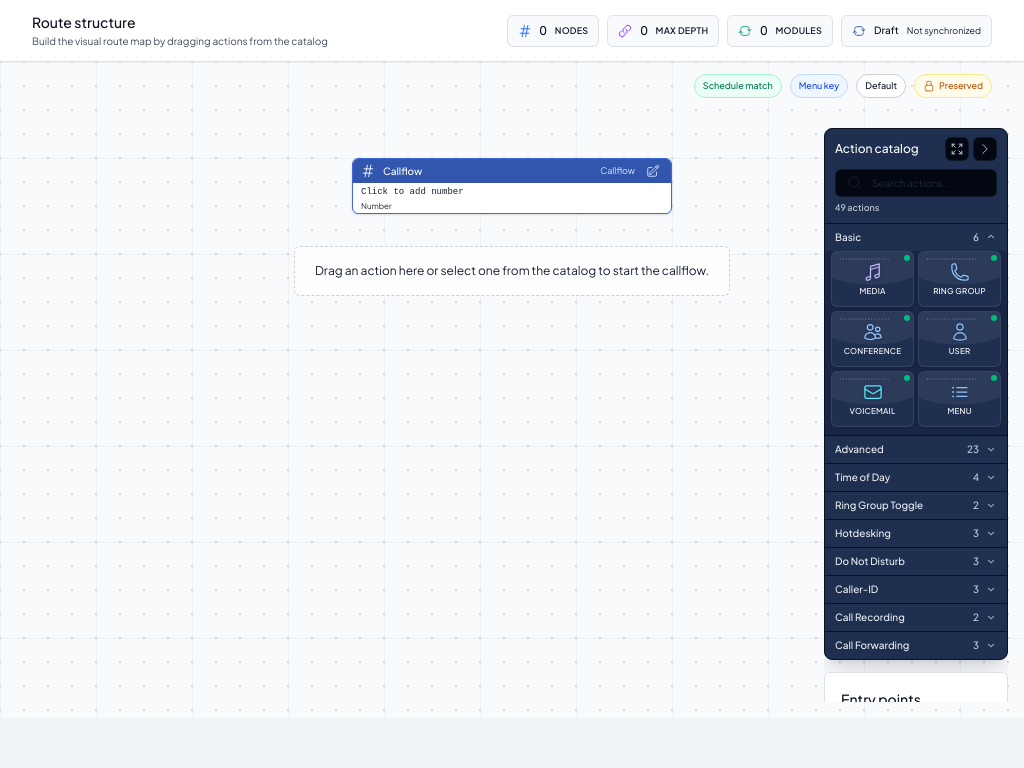
Test: CallflowCreateWorkspace › adds and removes a compact root action before the callflow is saved
In the search field with placeholder "Search actions…": (916, 183) x1=835 y1=169 x2=997 y2=197, type "user"
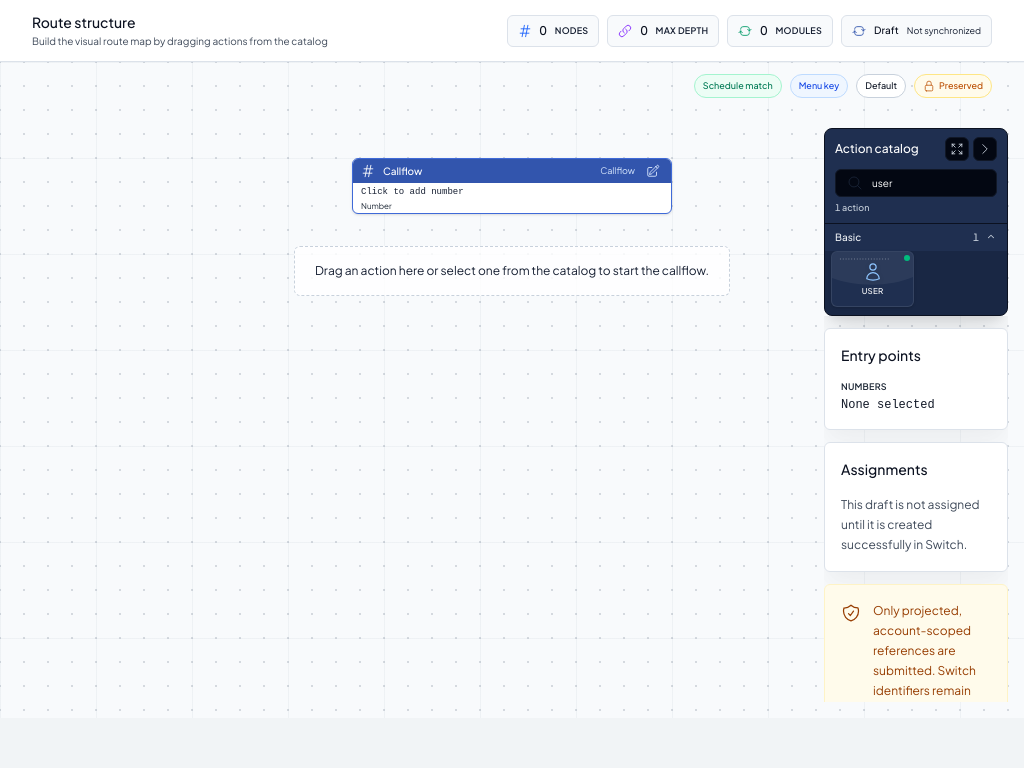
Click the button with aria-label "Use User as root action": (872, 278) x1=831 y1=250 x2=914 y2=306
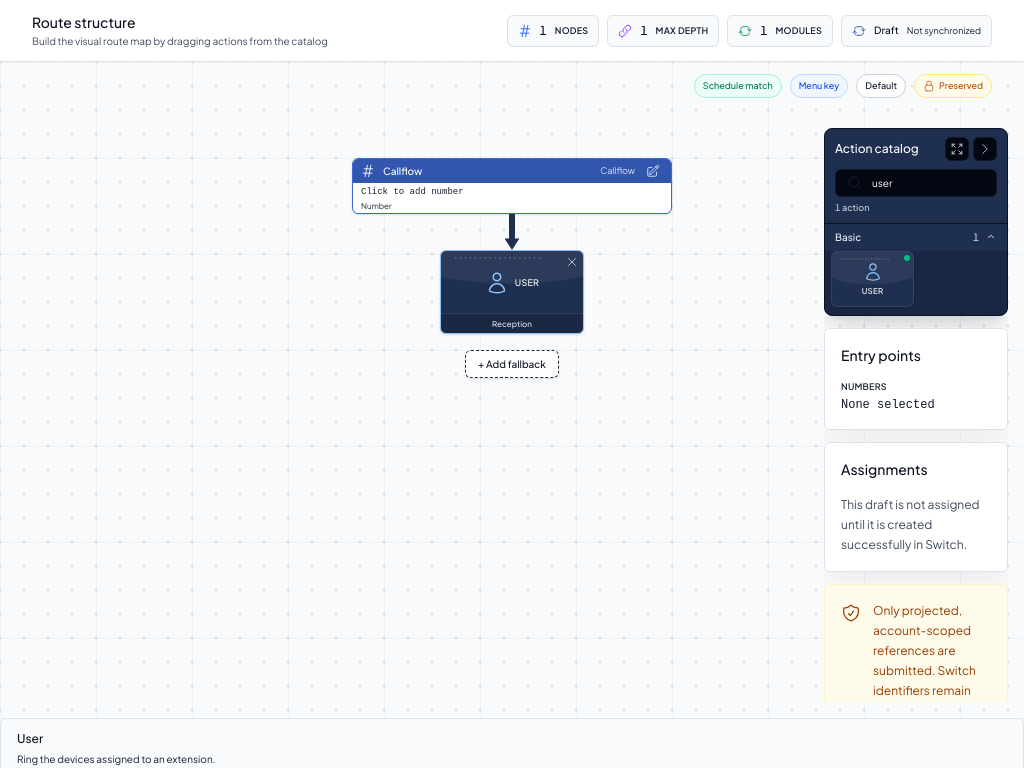
Check: the element named "Create callflow canvas" shows "User", box x1=515 y1=277 x2=539 y2=288
Click the button named "Remove User": (572, 262) x1=564 y1=254 x2=580 y2=270
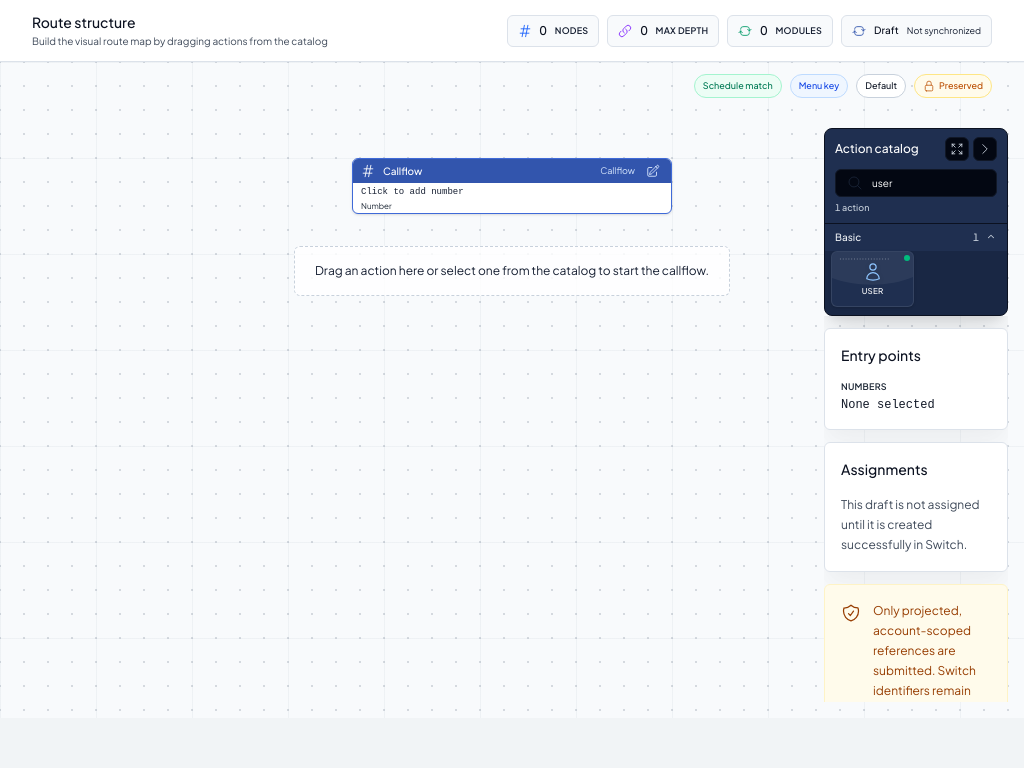
Check: the text "Drag an action here or select one from the catalog" is shown, box x1=315 y1=263 x2=709 y2=278
